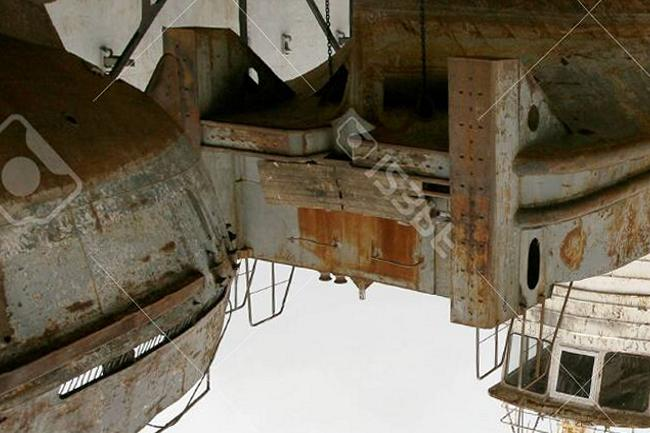rust: (2, 37, 181, 192), (354, 5, 647, 66), (453, 62, 498, 322), (296, 209, 422, 283), (2, 303, 115, 373), (128, 252, 209, 328), (492, 392, 647, 426), (609, 164, 650, 264), (213, 122, 298, 152), (562, 226, 588, 273)
